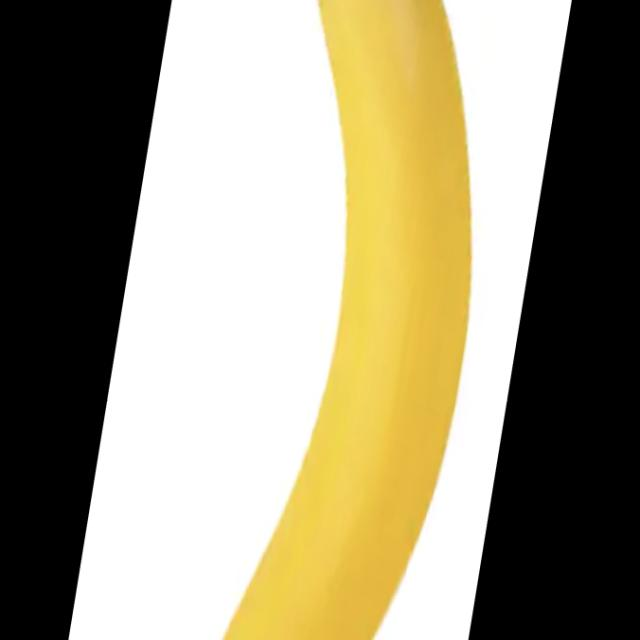god quality banana: (226, 0, 471, 638)
